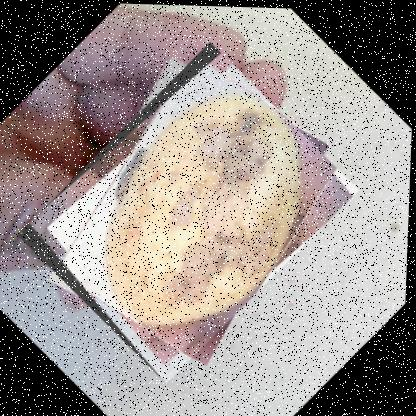guava_rotten: (13, 34, 364, 386)
